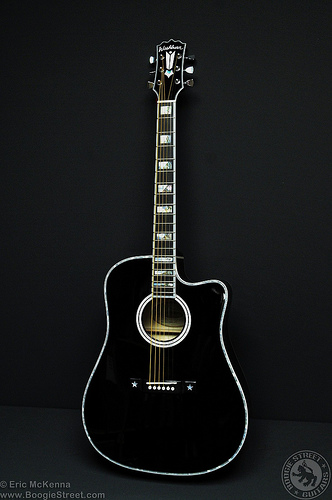guitar: (79, 38, 253, 477)
